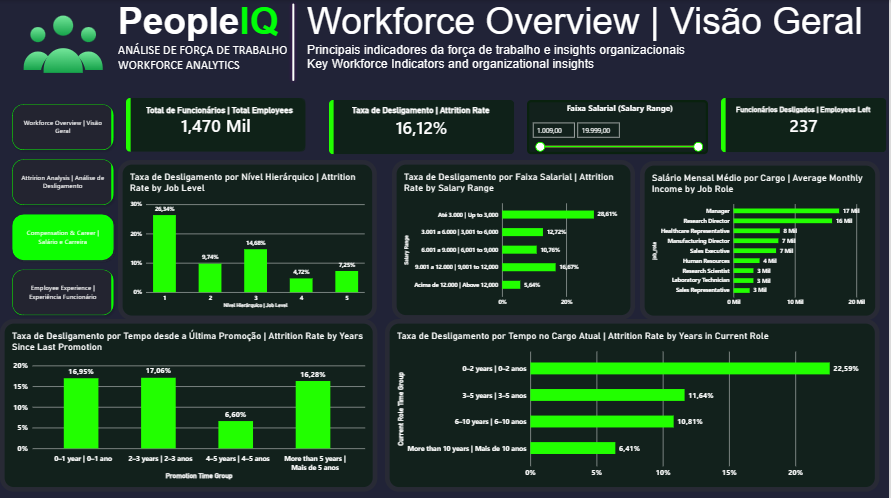

The dashboard page shown, as its layout file describes it:
{"tool":"powerbi","page":{"name":"Compensation & Career | Salário e Carreira","canvas":[1920,1080],"ordinal":2},"visuals":[{"type":"slicer","fields":{"Values":["analytics vw_dashboard_workforce.monthly_income"]},"box":[1137.5,215,391,116.6],"z":0},{"type":"cardVisual","title":"Total de Funcionários","fields":{"Data":["analytics vw_dashboard_workforce.Total Employee"]},"box":[272.5,212.5,388.8,116.6],"z":2000},{"type":"cardVisual","title":"Taxa de desligamento","fields":{"Data":["analytics vw_dashboard_workforce.Attrition Rate"]},"box":[710,215,400,117.5],"z":3000},{"type":"cardVisual","title":"Funcionários Desligados","fields":{"Data":["analytics vw_dashboard_workforce.Employees Left"]},"box":[1557.5,212.5,357.5,117.5],"z":4000},{"type":"shape","title":"Total de Funcionários | Total Employees","box":[315,227.5,347.8,28.1],"z":6000},{"type":"shape","title":"Taxa de Desligamento | Attrition Rate","box":[760,227.5,301.4,28.6],"z":7000},{"type":"shape","title":"Funcionários Desligados | Employees Left","box":[1590,227.5,330.5,28.1],"z":8000},{"type":"columnChart","title":"Taxa de Desligamento por Nível Hierárquico | Attrition Rate by Job Level","fields":{"Category":["analytics vw_dashboard_workforce.job_level"],"Y":["analytics vw_dashboard_workforce.Attrition Rate"]},"box":[255,345,559.4,345.6],"z":9000},{"type":"barChart","title":"Taxa de Desligamento por Faixa Salarial | Attrition Rate by Salary Range","fields":{"Category":["analytics vw_dashboard_workforce.Salary Range"],"Y":["analytics vw_dashboard_workforce.Attrition Rate"]},"box":[847.5,345,525,345],"z":10000},{"type":"barChart","title":"Salário Mensal Médio por Cargo | Average Monthly Income by Job Role","fields":{"Category":["analytics vw_dashboard_workforce.job_role"],"Y":["Avg(analytics vw_dashboard_workforce.monthly_income)"]},"box":[1382.5,347.5,518,344],"z":11000},{"type":"columnChart","title":"Taxa de Desligamento por Tempo desde a Última Promoção | Attrition Rate by Years Since Last Promotion","fields":{"Category":["analytics vw_dashboard_workforce.Promotion Time Group"],"Y":["analytics vw_dashboard_workforce.Attrition Rate"]},"box":[0,690,815,372.5],"z":12000},{"type":"barChart","title":"Taxa de Desligamento por Tempo no Cargo Atual | Attrition Rate by Years in Current Role","fields":{"Category":["analytics vw_dashboard_workforce.Current Role Time Group"],"Y":["analytics vw_dashboard_workforce.Attrition Rate"]},"box":[832.5,690,1067.5,372.5],"z":13000},{"type":"pageNavigator","box":[17.5,215,237.8,477.8],"z":13001},{"type":"image","box":[0,5,272.5,197.5],"z":13002},{"type":"textbox","box":[255,0,375,202.5],"z":13003},{"type":"shape","box":[605,0,57.5,182.5],"z":13004},{"type":"textbox","box":[662.5,0,1252.5,182.5],"z":13005}]}

Visuals, with their boxes in screenshot pixels (x1, y1, x2, y2), scaled from the page's 1920x1080 canvas onto the 891x498 screenshot:
slicer - analytics vw_dashboard_workforce.monthly_income: left=528, top=99, right=709, bottom=153
"Total de Funcionários" cardVisual: left=126, top=98, right=307, bottom=152
"Taxa de desligamento" cardVisual: left=329, top=99, right=515, bottom=153
"Funcionários Desligados" cardVisual: left=723, top=98, right=889, bottom=152
"Total de Funcionários | Total Employees" shape: left=146, top=105, right=308, bottom=118
"Taxa de Desligamento | Attrition Rate" shape: left=353, top=105, right=493, bottom=118
"Funcionários Desligados | Employees Left" shape: left=738, top=105, right=890, bottom=118
"Taxa de Desligamento por Nível Hierárquico | Attrition Rate by Job Level" columnChart: left=118, top=159, right=378, bottom=318
"Taxa de Desligamento por Faixa Salarial | Attrition Rate by Salary Range" barChart: left=393, top=159, right=637, bottom=318
"Salário Mensal Médio por Cargo | Average Monthly Income by Job Role" barChart: left=642, top=160, right=882, bottom=319
"Taxa de Desligamento por Tempo desde a Última Promoção | Attrition Rate by Years Since Last Promotion" columnChart: left=0, top=318, right=378, bottom=490
"Taxa de Desligamento por Tempo no Cargo Atual | Attrition Rate by Years in Current Role" barChart: left=386, top=318, right=882, bottom=490
pageNavigator: left=8, top=99, right=118, bottom=319
image: left=0, top=2, right=126, bottom=93
textbox: left=118, top=0, right=292, bottom=93
shape: left=281, top=0, right=307, bottom=84
textbox: left=307, top=0, right=889, bottom=84
